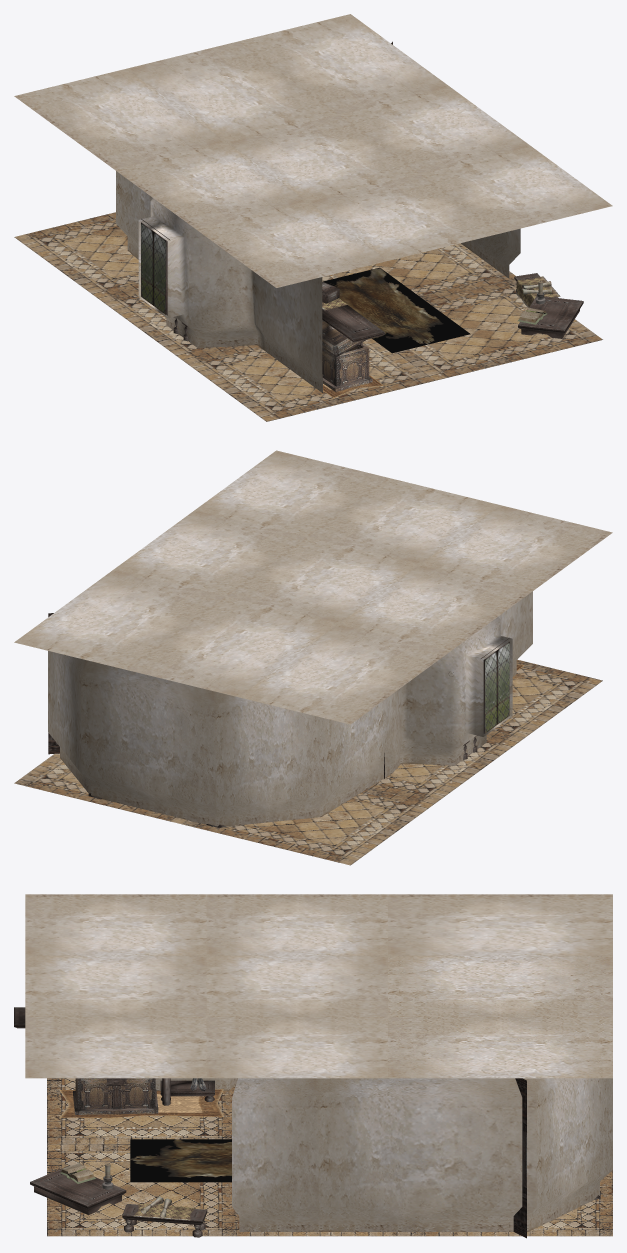
Rendered from bishop_room.glb.
3 views of the same model, one above another, from view 1: azimuth 30°, elevation 25°; view 2: azimuth 150°, elevation 25°; view 3: azimuth 270°, elevation 25° (orthographic). The views are drawn at different scales.
Parts seen in each view (by area): view 1: FModMeshpart 001; view 2: FModMeshpart 001; view 3: FModMeshpart 001.
Part boxes in pixels (left/top/right/bottom): FModMeshpart 001: left=14, top=14, right=612, bottom=421; FModMeshpart 001: left=14, top=450, right=612, bottom=865; FModMeshpart 001: left=14, top=894, right=612, bottom=1238.
Bounding box in the file's own units: 10.25 × 4.05 × 13.76.
Materials: 7 (7 with a texture image).
